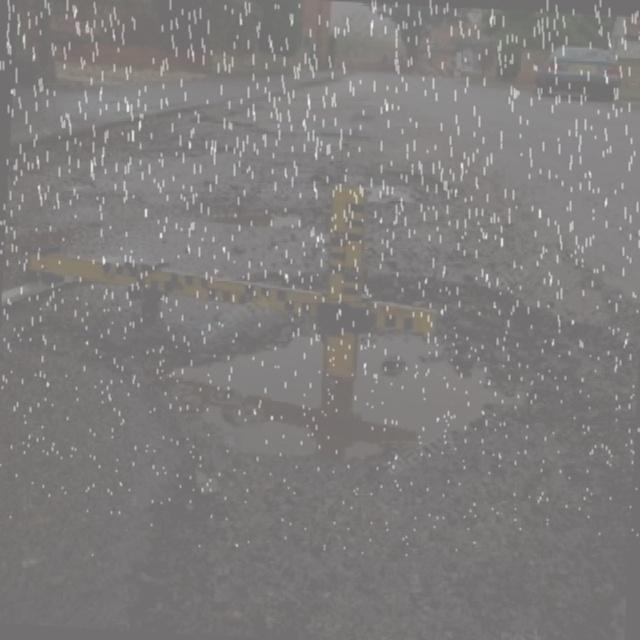Pothole: (0, 262, 640, 542), (315, 153, 512, 225), (204, 194, 328, 242)
